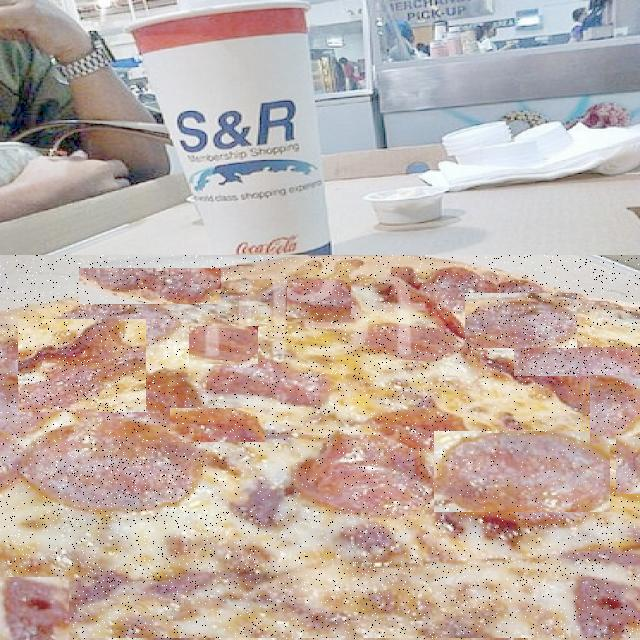Pepperoni: (434, 432, 610, 512), (18, 320, 146, 412), (39, 455, 190, 527), (219, 449, 352, 507), (446, 370, 569, 430), (465, 294, 577, 348), (320, 358, 430, 405), (79, 269, 221, 304), (0, 578, 69, 640), (514, 348, 640, 376), (590, 375, 640, 444), (170, 409, 265, 444), (287, 281, 351, 322), (190, 327, 260, 364), (616, 438, 640, 496)
Pizza: (0, 256, 640, 639)
